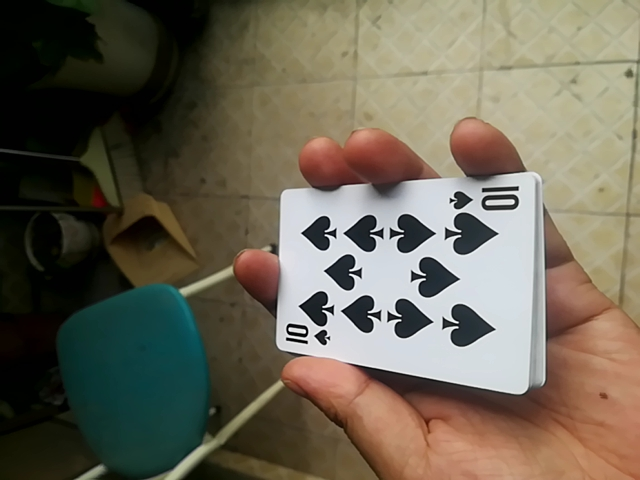ht 10: (274, 178, 539, 396)
